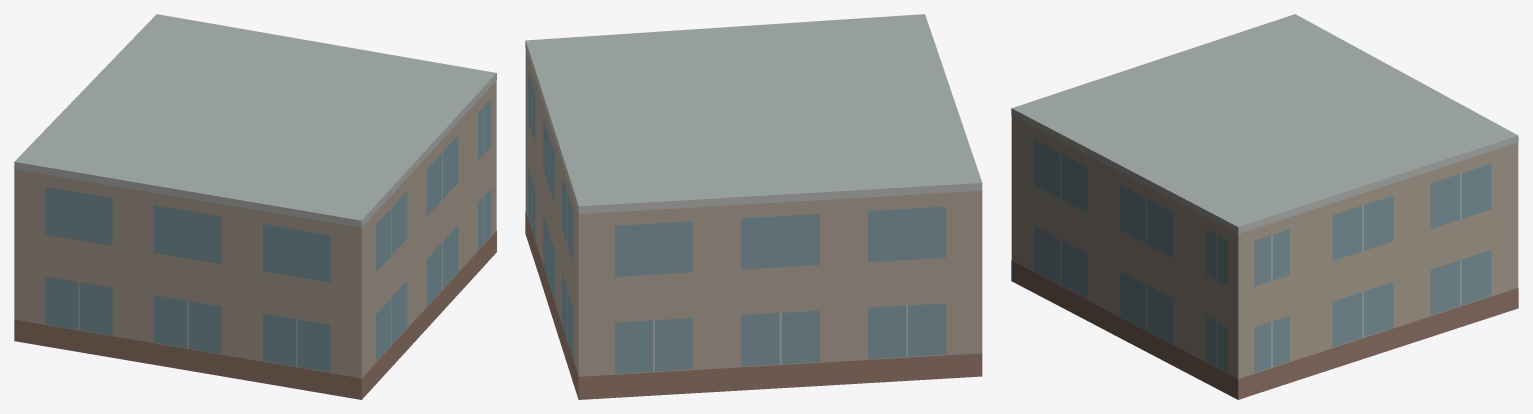
The model's file is survey-upis-32492885.glb.
3 renders of one model, left to right at view 1: azimuth 30°, elevation 25°; view 2: azimuth 150°, elevation 25°; view 3: azimuth 270°, elevation 25°, orthographic. The views are drawn at different scales.
Visible parts, largest first — view 1: survey-upis-32492885.tmp; view 2: survey-upis-32492885.tmp; view 3: survey-upis-32492885.tmp.
Boxes of the visible parts, left/top/right/bottom form: survey-upis-32492885.tmp: left=14, top=14, right=496, bottom=399; survey-upis-32492885.tmp: left=525, top=14, right=982, bottom=399; survey-upis-32492885.tmp: left=1011, top=14, right=1518, bottom=399.
Size of the model in its own units: 16.14 by 6.1 by 16.23.
